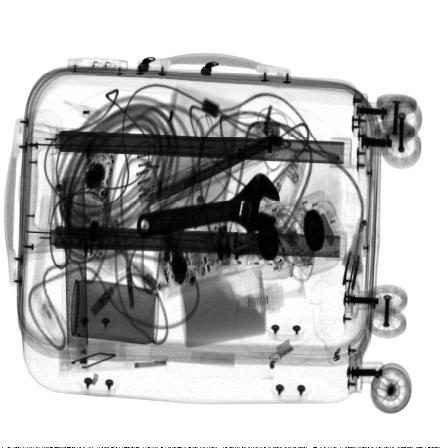Wrench: (137, 173, 281, 239)
